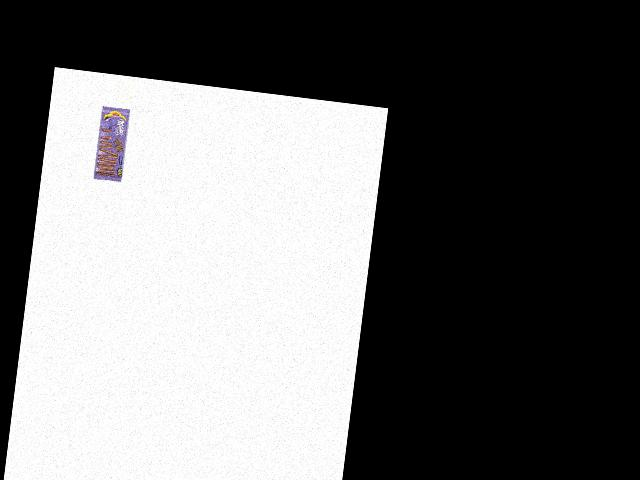chocolate: (89, 104, 131, 183)
